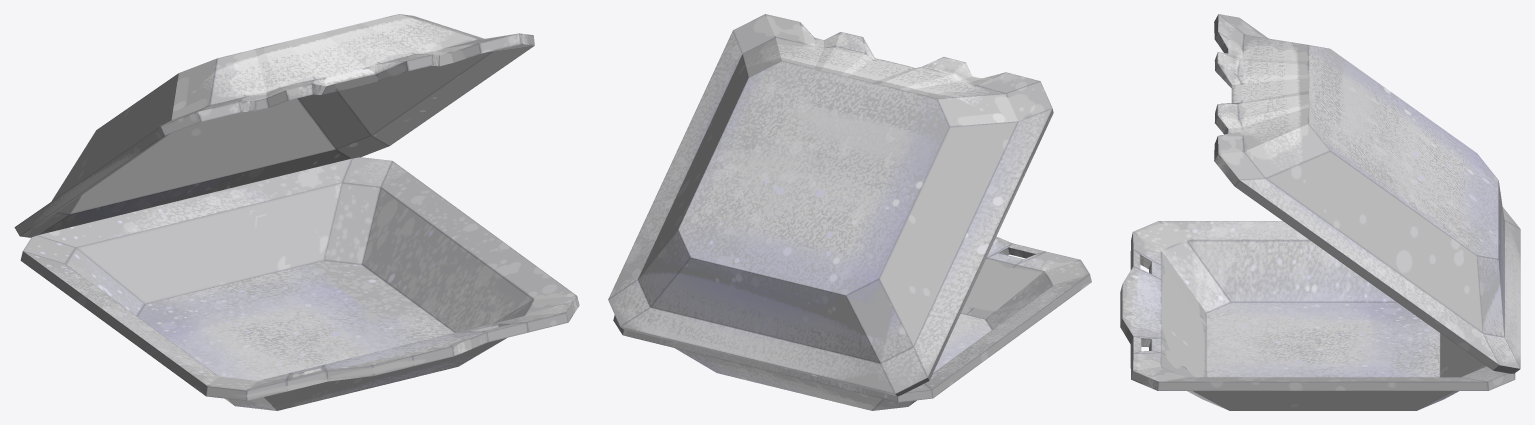
Rendered from TOGOBox (applied).fbx.
3 views of the same model, side by side, from view 1: azimuth 30°, elevation 25°; view 2: azimuth 150°, elevation 25°; view 3: azimuth 270°, elevation 25° (orthographic). The views are drawn at different scales.
Visible parts, largest first — view 1: Plane; view 2: Plane; view 3: Plane.
Boxes of the visible parts, x1,y1,x2,y2 form: Plane: (14, 14, 579, 410); Plane: (608, 14, 1091, 410); Plane: (1120, 14, 1520, 410).
Size of the model in its own units: 323 by 256 by 336.
1 material, 1 textured.
